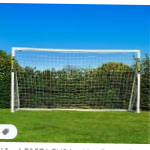goals: (9, 45, 141, 116)
